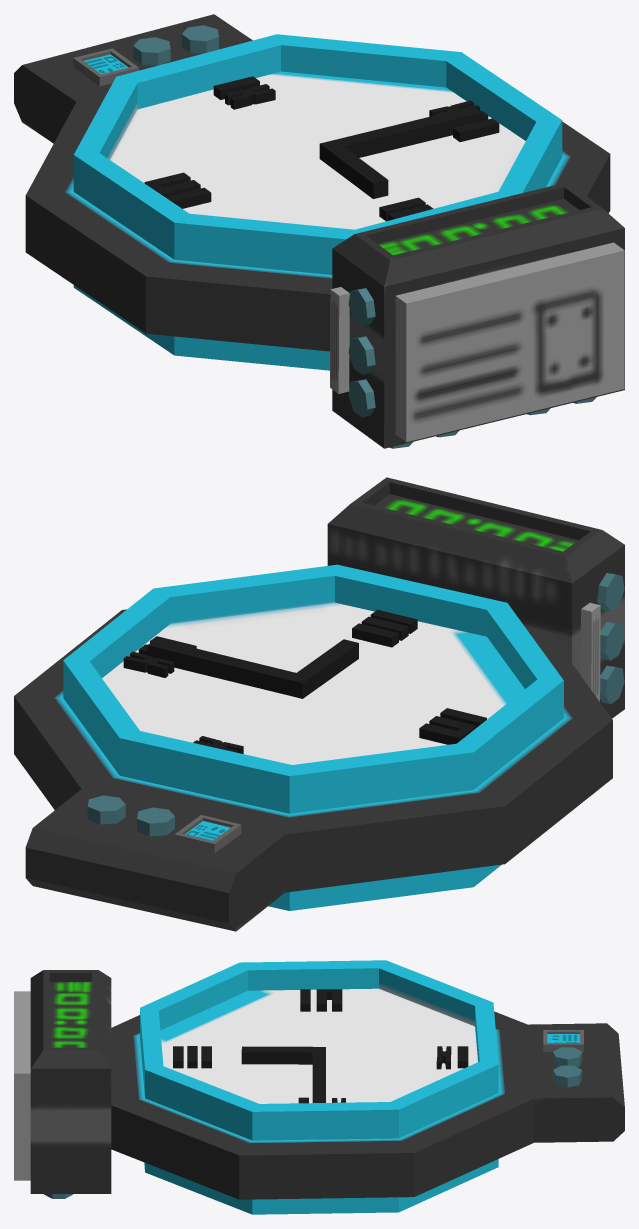
The model's file is double time.fbx.
3 renders of one model, top to bottom at view 1: azimuth 30°, elevation 25°; view 2: azimuth 150°, elevation 25°; view 3: azimuth 270°, elevation 25°, orthographic. The views are drawn at different scales.
Parts seen in each view (by area): view 1: Double_Time; view 2: Double_Time; view 3: Double_Time.
Part boxes in pixels (x1=…): Double_Time: x1=14, y1=14, x2=624, y2=448; Double_Time: x1=14, y1=477, x2=624, y2=931; Double_Time: x1=14, y1=960, x2=624, y2=1214.
Size of the model in its own units: 597 by 227 by 849.
